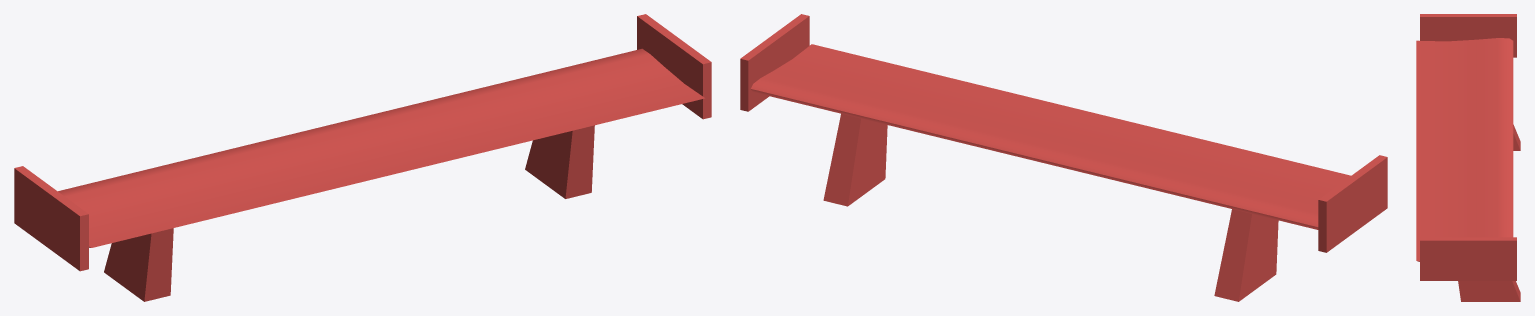
The model's file is spoiler_wing.glb.
The picture shows the model from 3 angles, left to right: view 1: azimuth 30°, elevation 25°; view 2: azimuth 150°, elevation 25°; view 3: azimuth 270°, elevation 25°; orthographic projection. The views are drawn at different scales.
Visible parts, largest first — view 1: spoiler_wing__mesh; view 2: spoiler_wing__mesh; view 3: spoiler_wing__mesh.
Part boxes in pixels (x1=…): spoiler_wing__mesh: x1=14, y1=14, x2=711, y2=301; spoiler_wing__mesh: x1=740, y1=14, x2=1387, y2=301; spoiler_wing__mesh: x1=1416, y1=14, x2=1520, y2=301.
Bounding box in the file's own units: 1.44 × 0.28 × 0.28.
